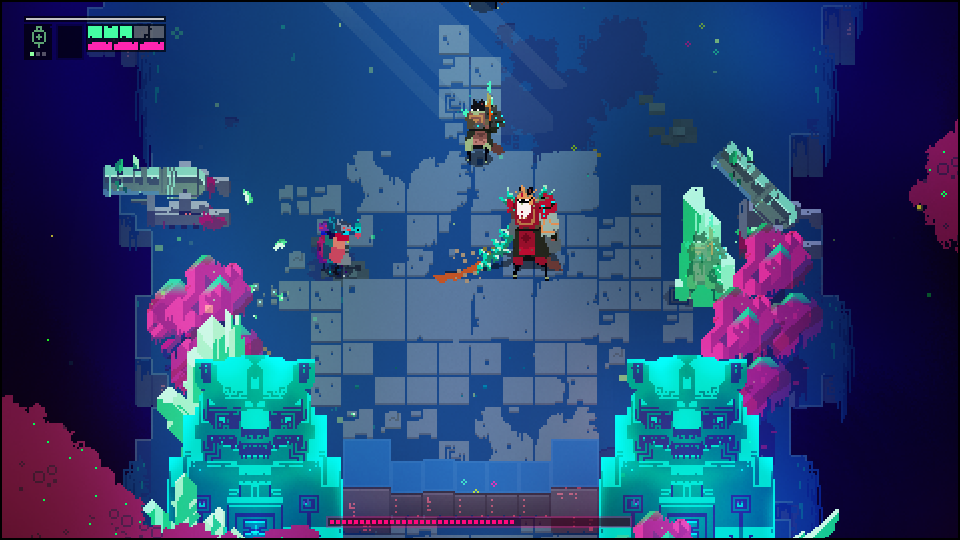hanged_man: (470, 180, 576, 288)
player: (323, 217, 362, 281)
